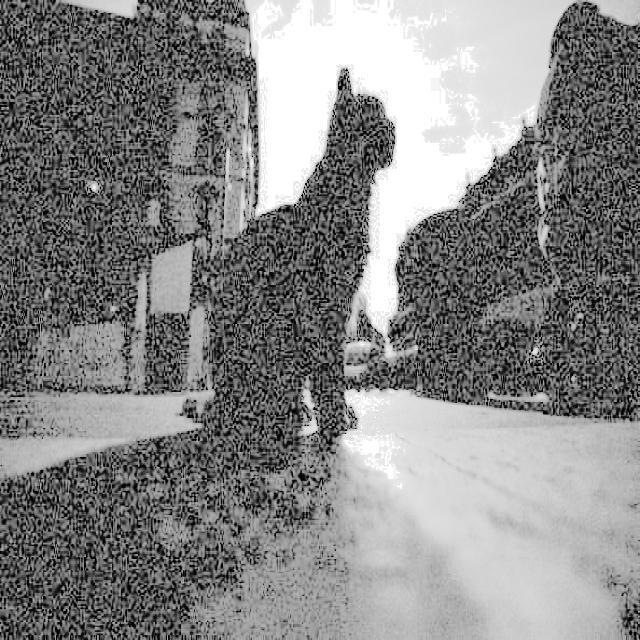Cat: (194, 66, 397, 495)
